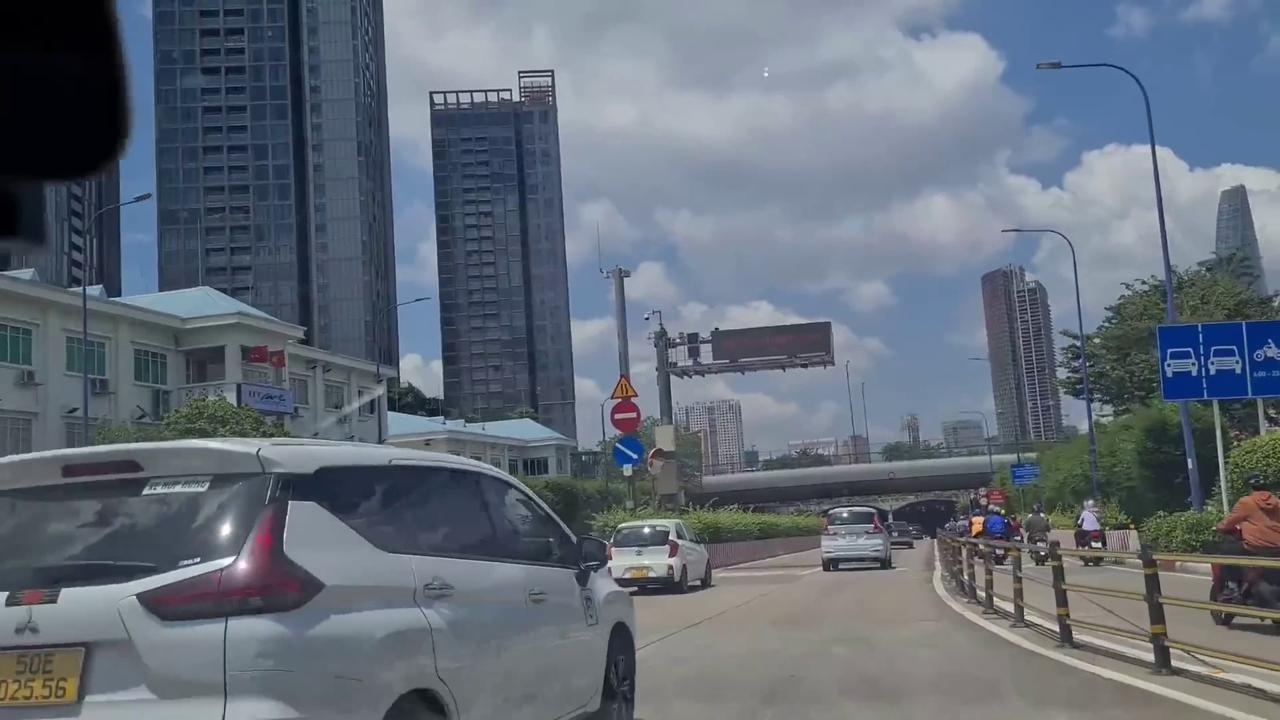Cấm đi ngược chiều: (610, 399, 642, 433)
Hướng phải đi vòng sang phải: (612, 434, 644, 467)
Làn đường cho từng xe: (1152, 321, 1280, 402)
Đuờng hẹp: (609, 375, 639, 398)
